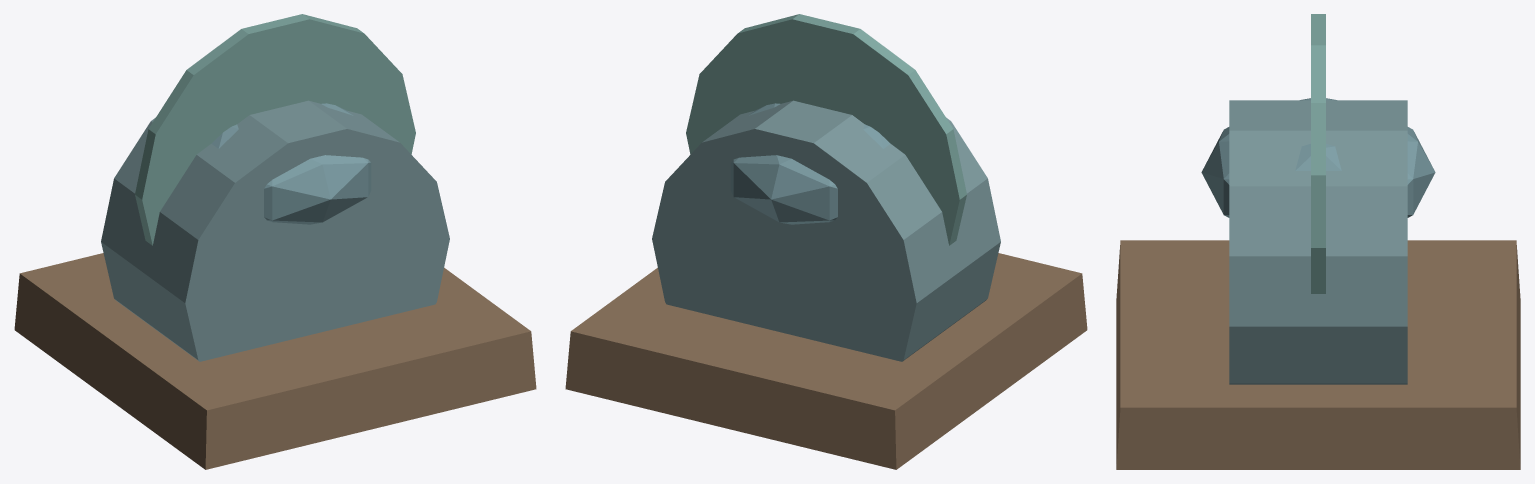
Rendered from station_vat.glb.
The picture shows the model from 3 angles, left to right: view 1: azimuth 30°, elevation 25°; view 2: azimuth 150°, elevation 25°; view 3: azimuth 270°, elevation 25°; orthographic projection. The views are drawn at different scales.
Visible parts, largest first — view 1: part_1, part_0, part_2, part_3; view 2: part_1, part_0, part_2, part_3; view 3: part_0, part_1, part_2, part_3.
Boxes of the visible parts, x1,y1,x2,y2 form: part_1: (101, 100, 449, 361); part_0: (14, 253, 536, 469); part_2: (135, 14, 415, 245); part_3: (211, 103, 371, 224); part_1: (652, 100, 1000, 361); part_0: (565, 253, 1087, 469); part_2: (686, 14, 966, 245); part_3: (730, 103, 890, 224); part_0: (1116, 240, 1520, 469); part_1: (1229, 100, 1407, 384); part_2: (1311, 14, 1325, 293); part_3: (1201, 98, 1435, 217).
Size of the model in its own units: 1.45 by 1.47 by 1.45.
